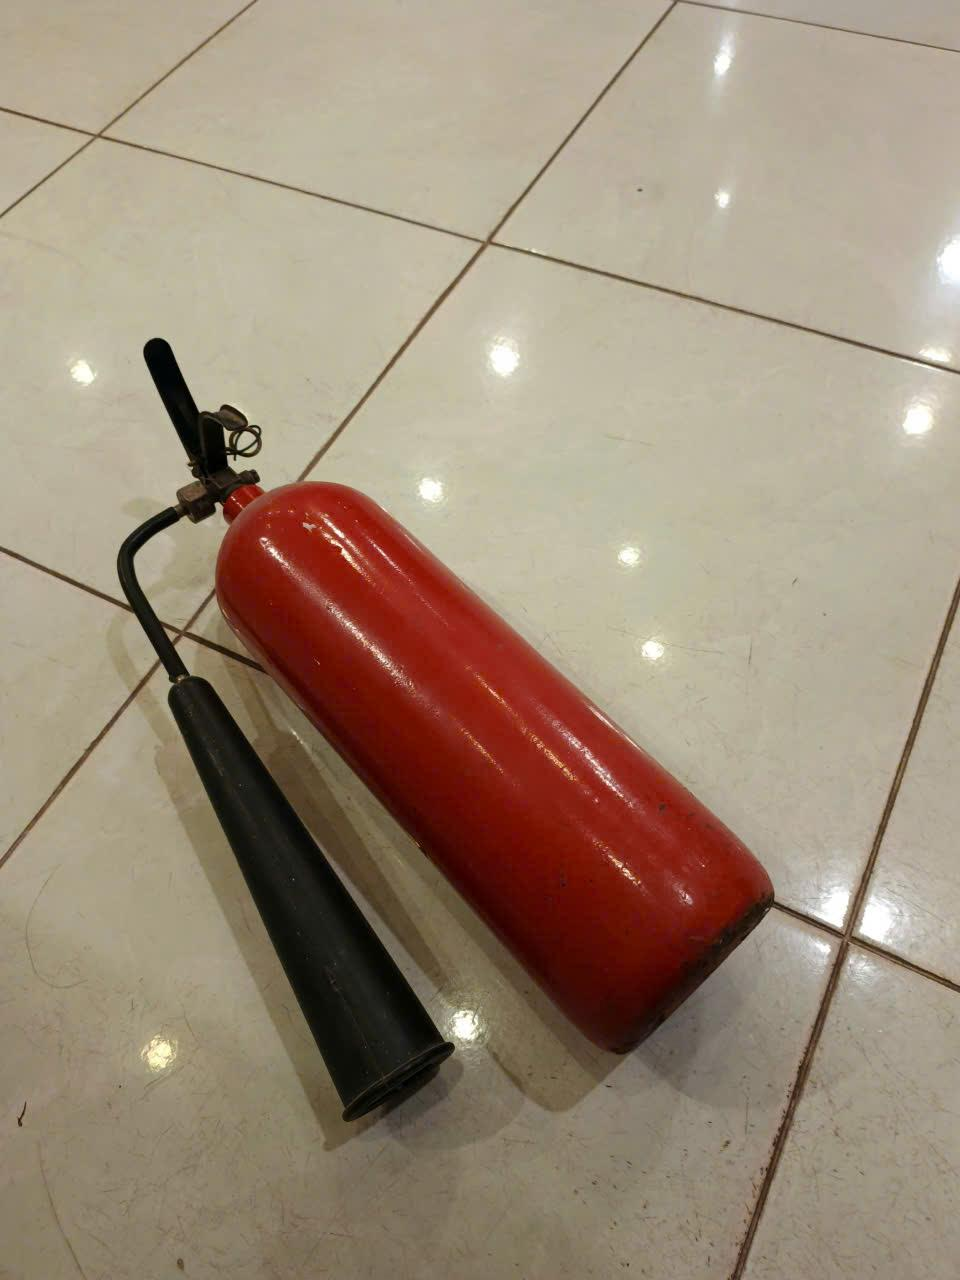Con lai: (113, 336, 778, 1131)
